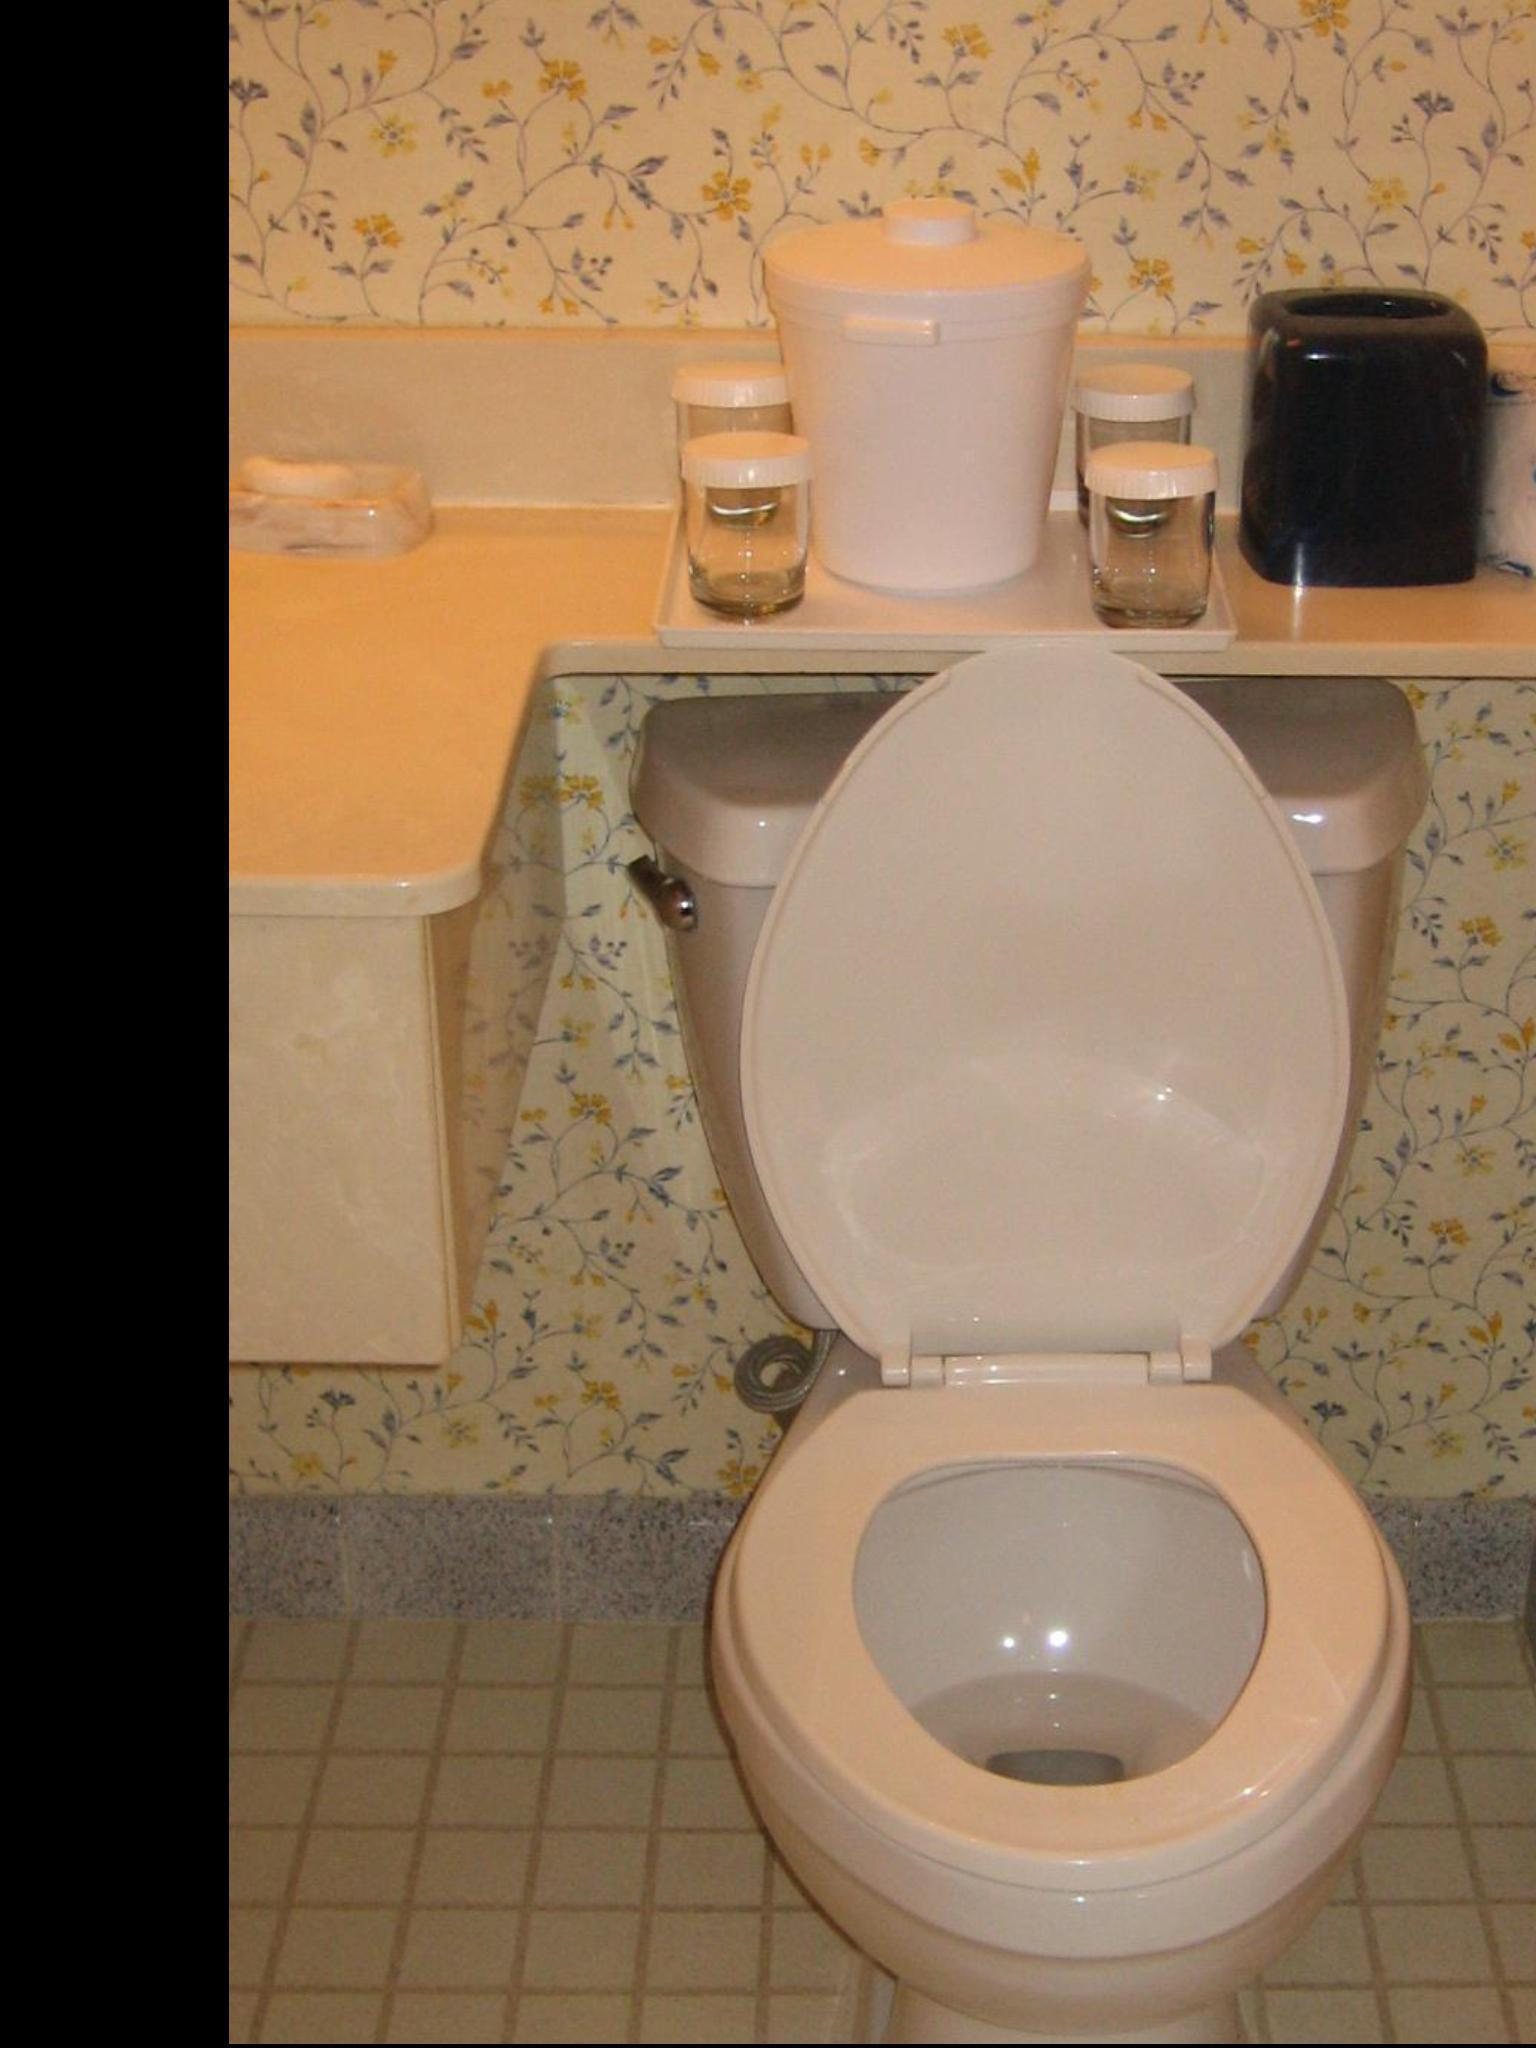Lavamanos: (0, 503, 507, 1421)
Puerta: (1494, 0, 1536, 2048)
Sanitario: (678, 692, 1420, 2048)
